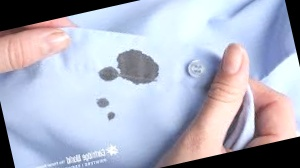ink: (116, 45, 160, 88), (98, 66, 117, 82), (96, 97, 109, 108), (108, 112, 116, 120)
